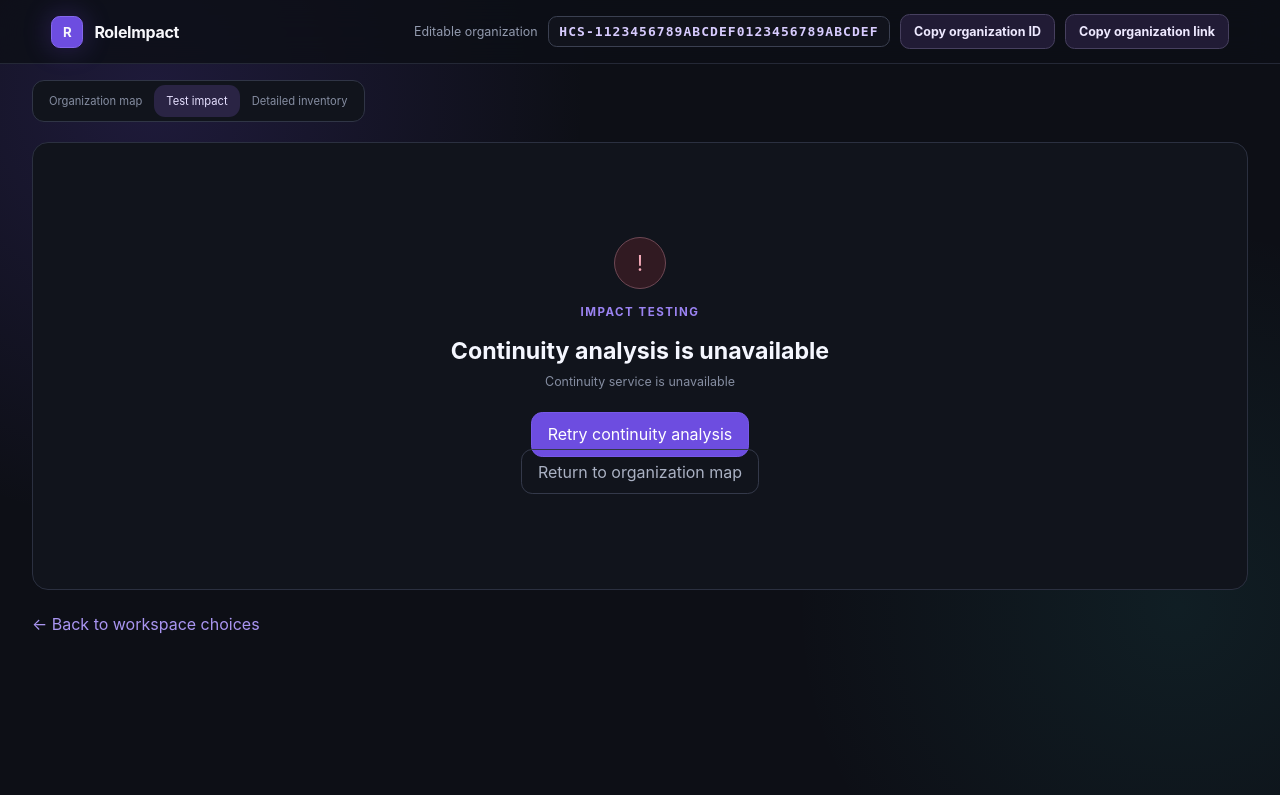
Test: App › opens impact testing after retrying a failed continuity projection
Expected: the heading "Continuity analysis is unavailable" is shown, x1=451 y1=337 x2=829 y2=365
Step 1. Click the button "Retry continuity analysis" → (640, 434), box x1=531 y1=412 x2=749 y2=457
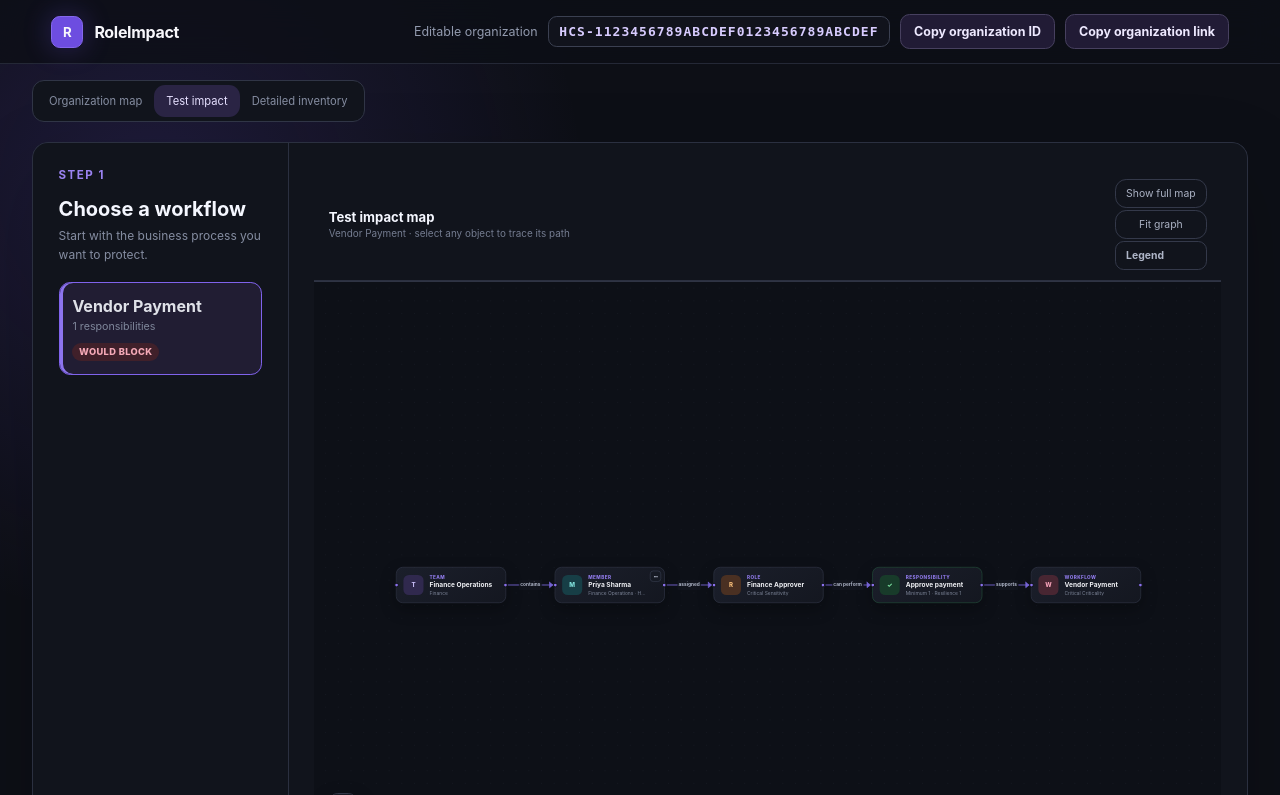
Expected: the heading "Test impact map" is shown, x1=329 y1=209 x2=434 y2=225
